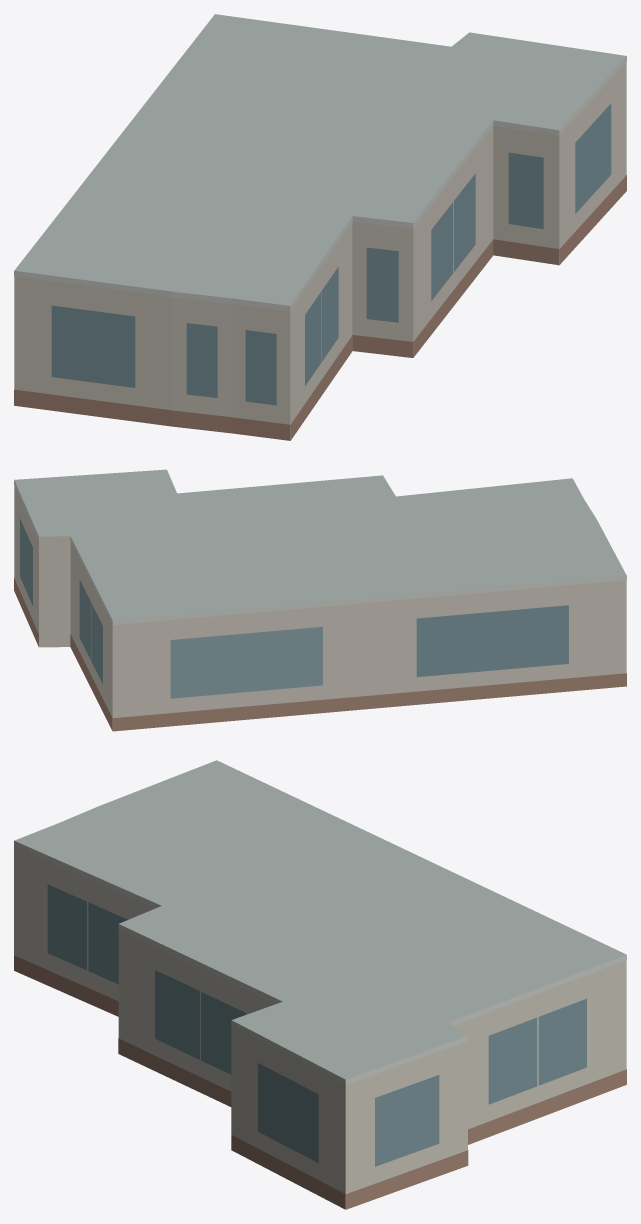
The model's file is survey-upis-32613346.glb.
The picture shows the model from 3 angles, top to bottom: view 1: azimuth 30°, elevation 25°; view 2: azimuth 150°, elevation 25°; view 3: azimuth 270°, elevation 25°; orthographic projection. The views are drawn at different scales.
Visible parts, largest first — view 1: survey-upis-32613346.tmp; view 2: survey-upis-32613346.tmp; view 3: survey-upis-32613346.tmp.
Part boxes in pixels (bbox=[...]): survey-upis-32613346.tmp: bbox=[14, 14, 626, 440]; survey-upis-32613346.tmp: bbox=[14, 469, 626, 731]; survey-upis-32613346.tmp: bbox=[14, 760, 626, 1209].
Size of the model in its own units: 20.03 by 3.8 by 16.24.
